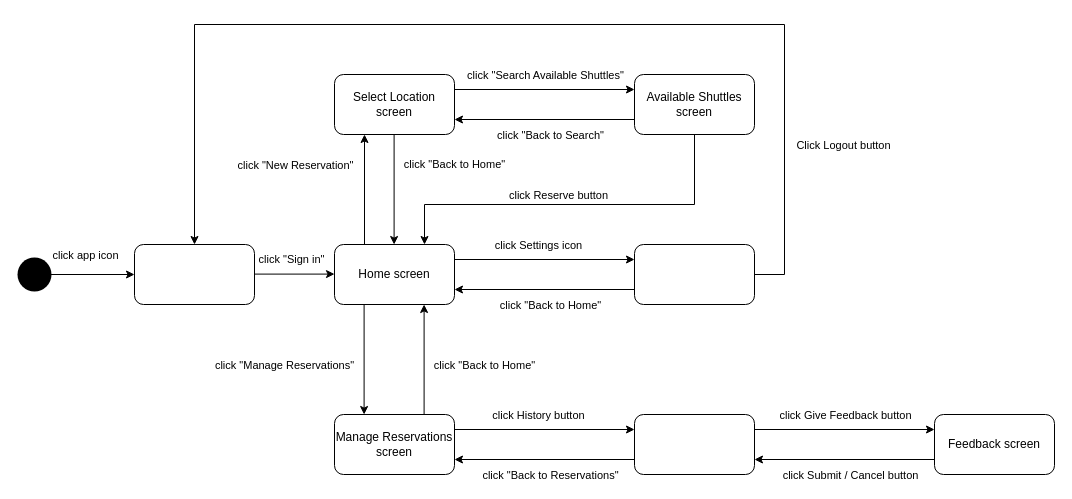
The diagram is 1072 pixels wide and 499 high, and some of its shapes have lost their labels. The shapes that lost their labels are listed below. From the top down, each one's centre as x and y in pixels, then its label:
[194,274]: Login screen
[694,274]: Settings screen
[694,444]: Reservation History screen
